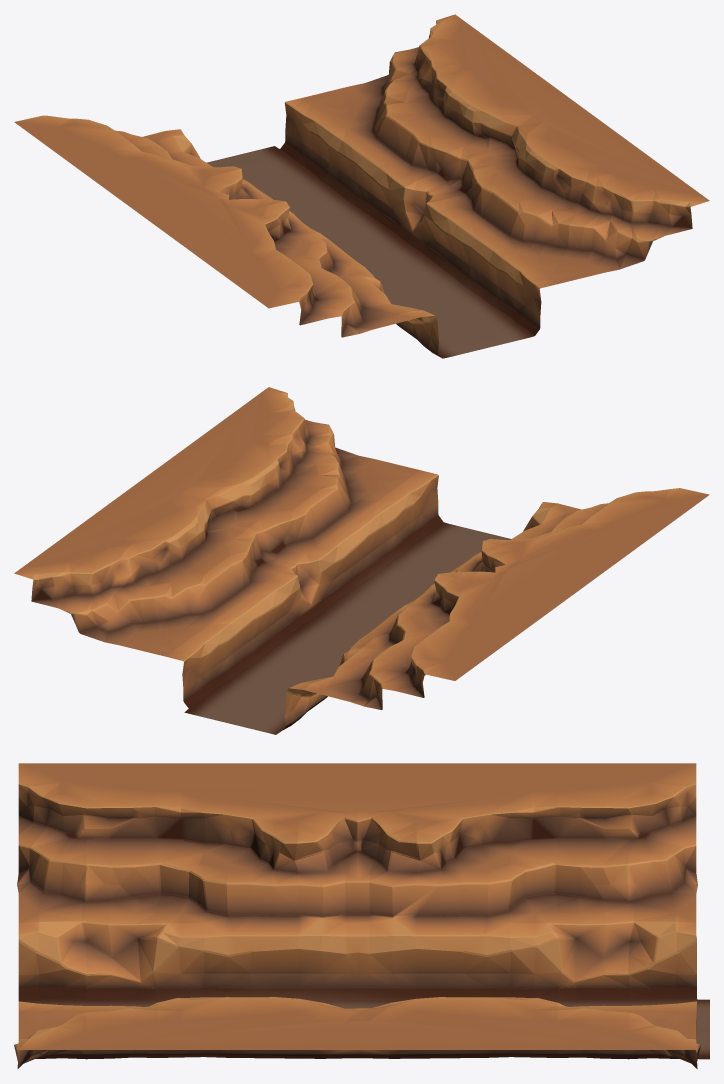
Rendered from DesertPathStraight.obj.
The picture shows the model from 3 angles, top to bottom: view 1: azimuth 30°, elevation 25°; view 2: azimuth 150°, elevation 25°; view 3: azimuth 270°, elevation 25°; orthographic projection. The views are drawn at different scales.
Parts seen in each view (by area): view 1: DesertPathStraight; view 2: DesertPathStraight; view 3: DesertPathStraight.
Boxes of the visible parts, x1=… form: DesertPathStraight: x1=14, y1=14, x2=709, y2=358; DesertPathStraight: x1=14, y1=387, x2=709, y2=734; DesertPathStraight: x1=14, y1=763, x2=709, y2=1068.
Bounding box in the file's own units: 300 × 60.74 × 308.
1 material, 1 textured.
